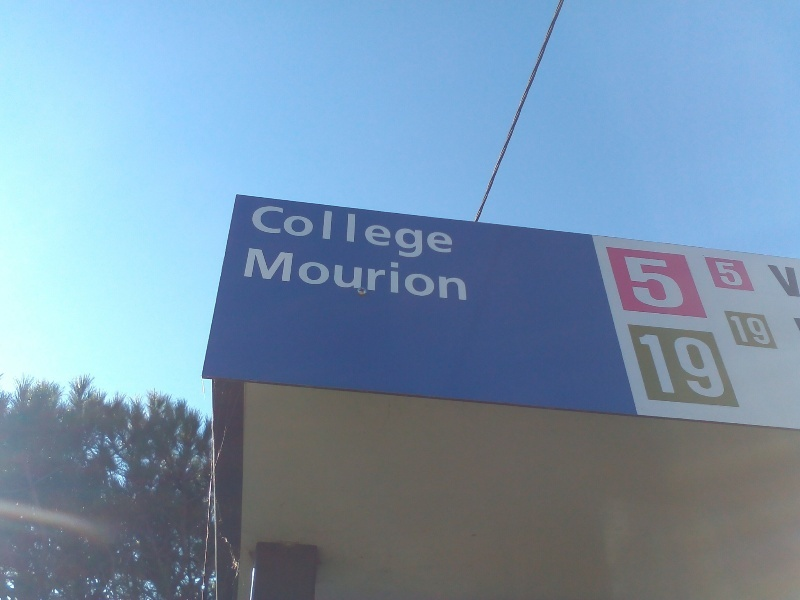text: (641, 331, 656, 399), (657, 331, 672, 399), (673, 331, 688, 399), (689, 331, 704, 399), (705, 331, 720, 399), (257, 199, 272, 265), (273, 199, 288, 265), (289, 199, 304, 265), (305, 199, 320, 265), (321, 199, 336, 265), (337, 199, 352, 265), (353, 199, 368, 265), (369, 199, 384, 265), (385, 199, 400, 265), (401, 199, 416, 265), (417, 199, 432, 265), (433, 199, 448, 265), (257, 246, 272, 307), (273, 246, 288, 307), (289, 246, 304, 307), (305, 246, 320, 307), (321, 246, 336, 307), (337, 246, 352, 307), (353, 246, 368, 307), (369, 246, 384, 307), (385, 246, 400, 307), (401, 246, 416, 307), (417, 246, 432, 307), (433, 246, 448, 307), (449, 246, 464, 307), (449, 199, 462, 265), (625, 255, 640, 311), (641, 255, 656, 311), (657, 255, 672, 311), (673, 255, 688, 311), (721, 331, 730, 399), (769, 263, 784, 303), (785, 263, 800, 303), (737, 313, 752, 346), (753, 313, 768, 346), (249, 246, 256, 307), (465, 246, 472, 307), (721, 260, 736, 286), (636, 331, 640, 399), (252, 199, 256, 265), (729, 313, 736, 346), (737, 260, 745, 286), (713, 260, 720, 286), (764, 263, 768, 303), (769, 313, 773, 346), (622, 255, 624, 311)
